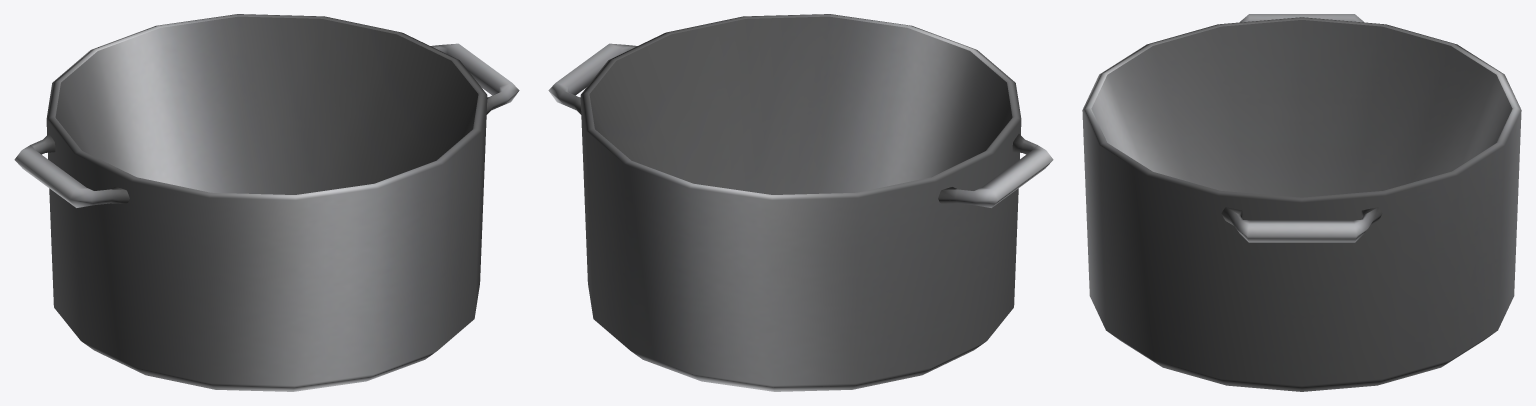
The model's file is M_Prop_Pot_001.fbx.
3 renders of one model, left to right at view 1: azimuth 30°, elevation 25°; view 2: azimuth 150°, elevation 25°; view 3: azimuth 270°, elevation 25°, orthographic.
Visible parts, largest first — view 1: Pot; view 2: Pot; view 3: Pot.
Part boxes in pixels (bbox=[...]): Pot: bbox=[14, 14, 519, 391]; Pot: bbox=[548, 14, 1053, 391]; Pot: bbox=[1082, 14, 1521, 391].
Bounding box in the file's own units: 73.35 × 31.74 × 62.79.
